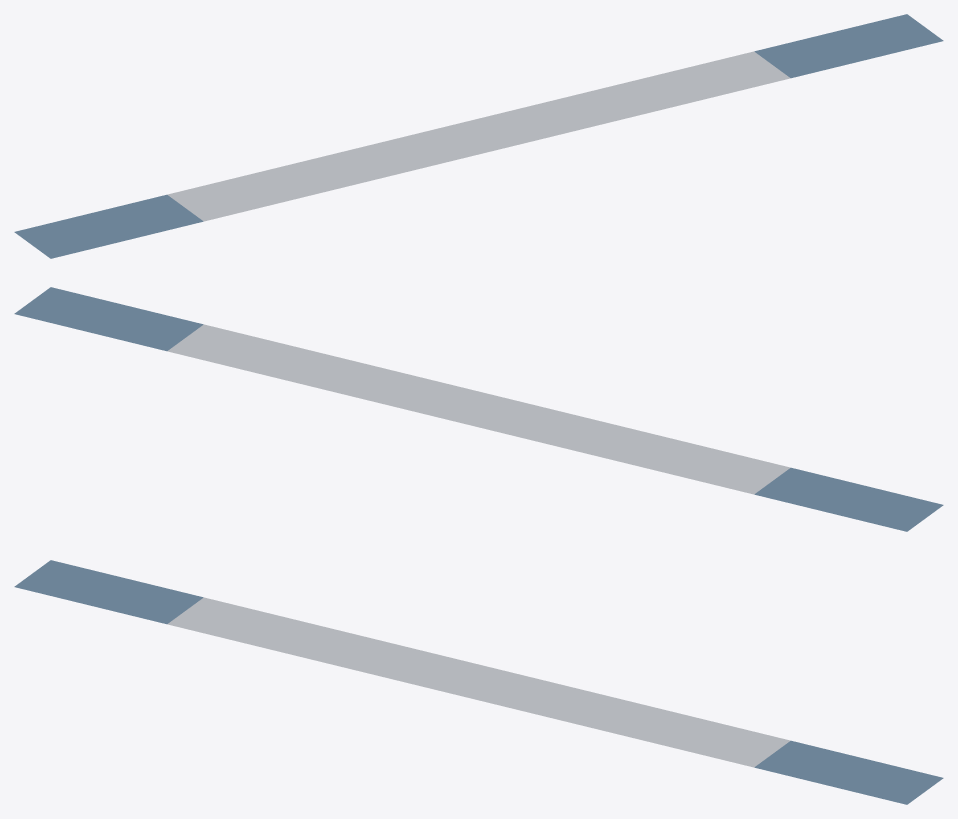
The model's file is M_FloorCross700x50Marine20-4.FBX.
The picture shows the model from 3 angles, top to bottom: view 1: azimuth 30°, elevation 25°; view 2: azimuth 150°, elevation 25°; view 3: azimuth 330°, elevation 25°; orthographic projection.
Parts seen in each view (by area): view 1: M_FloorCross700x50Marine20-4; view 2: M_FloorCross700x50Marine20-4; view 3: M_FloorCross700x50Marine20-4.
Boxes of the visible parts, bbox=[...] form: M_FloorCross700x50Marine20-4: bbox=[14, 14, 943, 258]; M_FloorCross700x50Marine20-4: bbox=[14, 287, 943, 531]; M_FloorCross700x50Marine20-4: bbox=[14, 560, 943, 804].
Size of the model in its own units: 7 by 3e-07 by 0.5.
